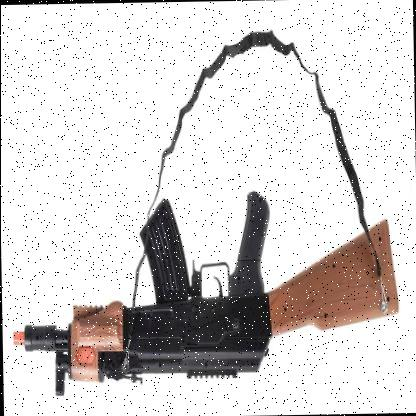rifle: (11, 185, 405, 410)
